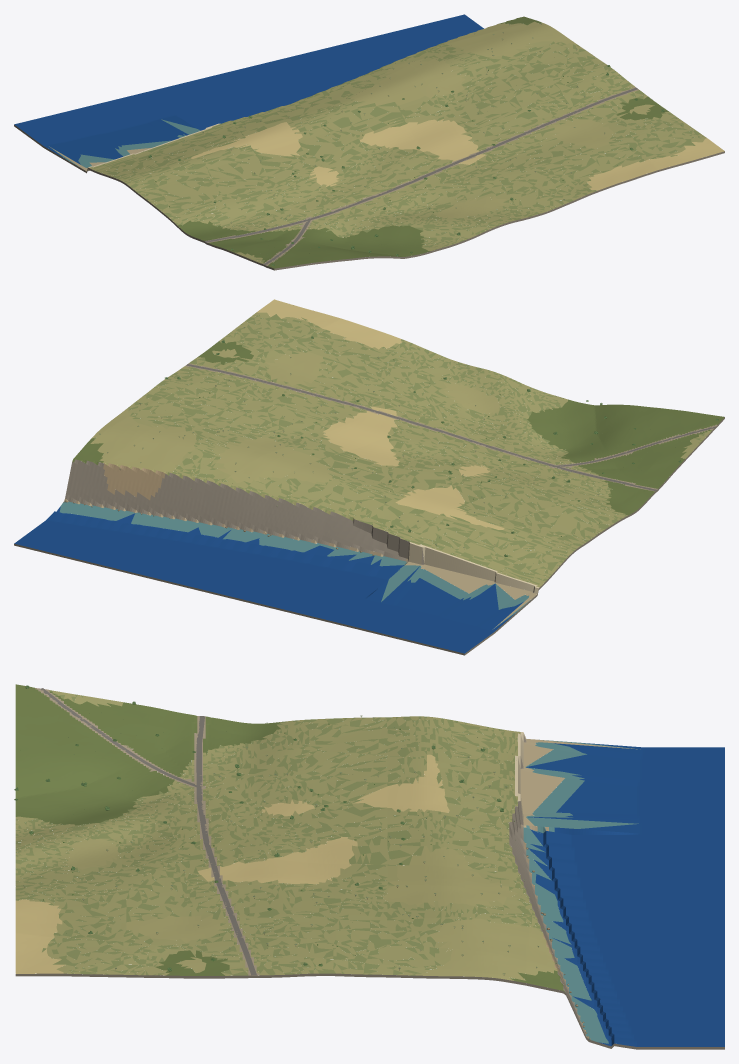
The model's file is parca_+7_+2-yakin.glb.
The picture shows the model from 3 angles, top to bottom: view 1: azimuth 30°, elevation 25°; view 2: azimuth 150°, elevation 25°; view 3: azimuth 270°, elevation 25°; orthographic projection. The views are drawn at different scales.
Visible parts, largest first — view 1: parca_+7_+2_arazi, parca_+7_+2_yollar, parca_+7_+2_bitkiler; view 2: parca_+7_+2_arazi, parca_+7_+2_yollar, parca_+7_+2_bitkiler; view 3: parca_+7_+2_arazi, parca_+7_+2_yollar, parca_+7_+2_bitkiler.
Part boxes in pixels (x1,y1,x2,y2): parca_+7_+2_arazi: (14, 14, 724, 270); parca_+7_+2_yollar: (205, 88, 637, 264); parca_+7_+2_bitkiler: (119, 23, 681, 265); parca_+7_+2_arazi: (14, 299, 724, 655); parca_+7_+2_yollar: (186, 364, 715, 491); parca_+7_+2_bitkiler: (99, 327, 718, 563); parca_+7_+2_arazi: (15, 684, 724, 1049); parca_+7_+2_yollar: (40, 688, 256, 975); parca_+7_+2_bitkiler: (14, 685, 556, 975).
Size of the model in its own units: 1002 by 128 by 1002.
